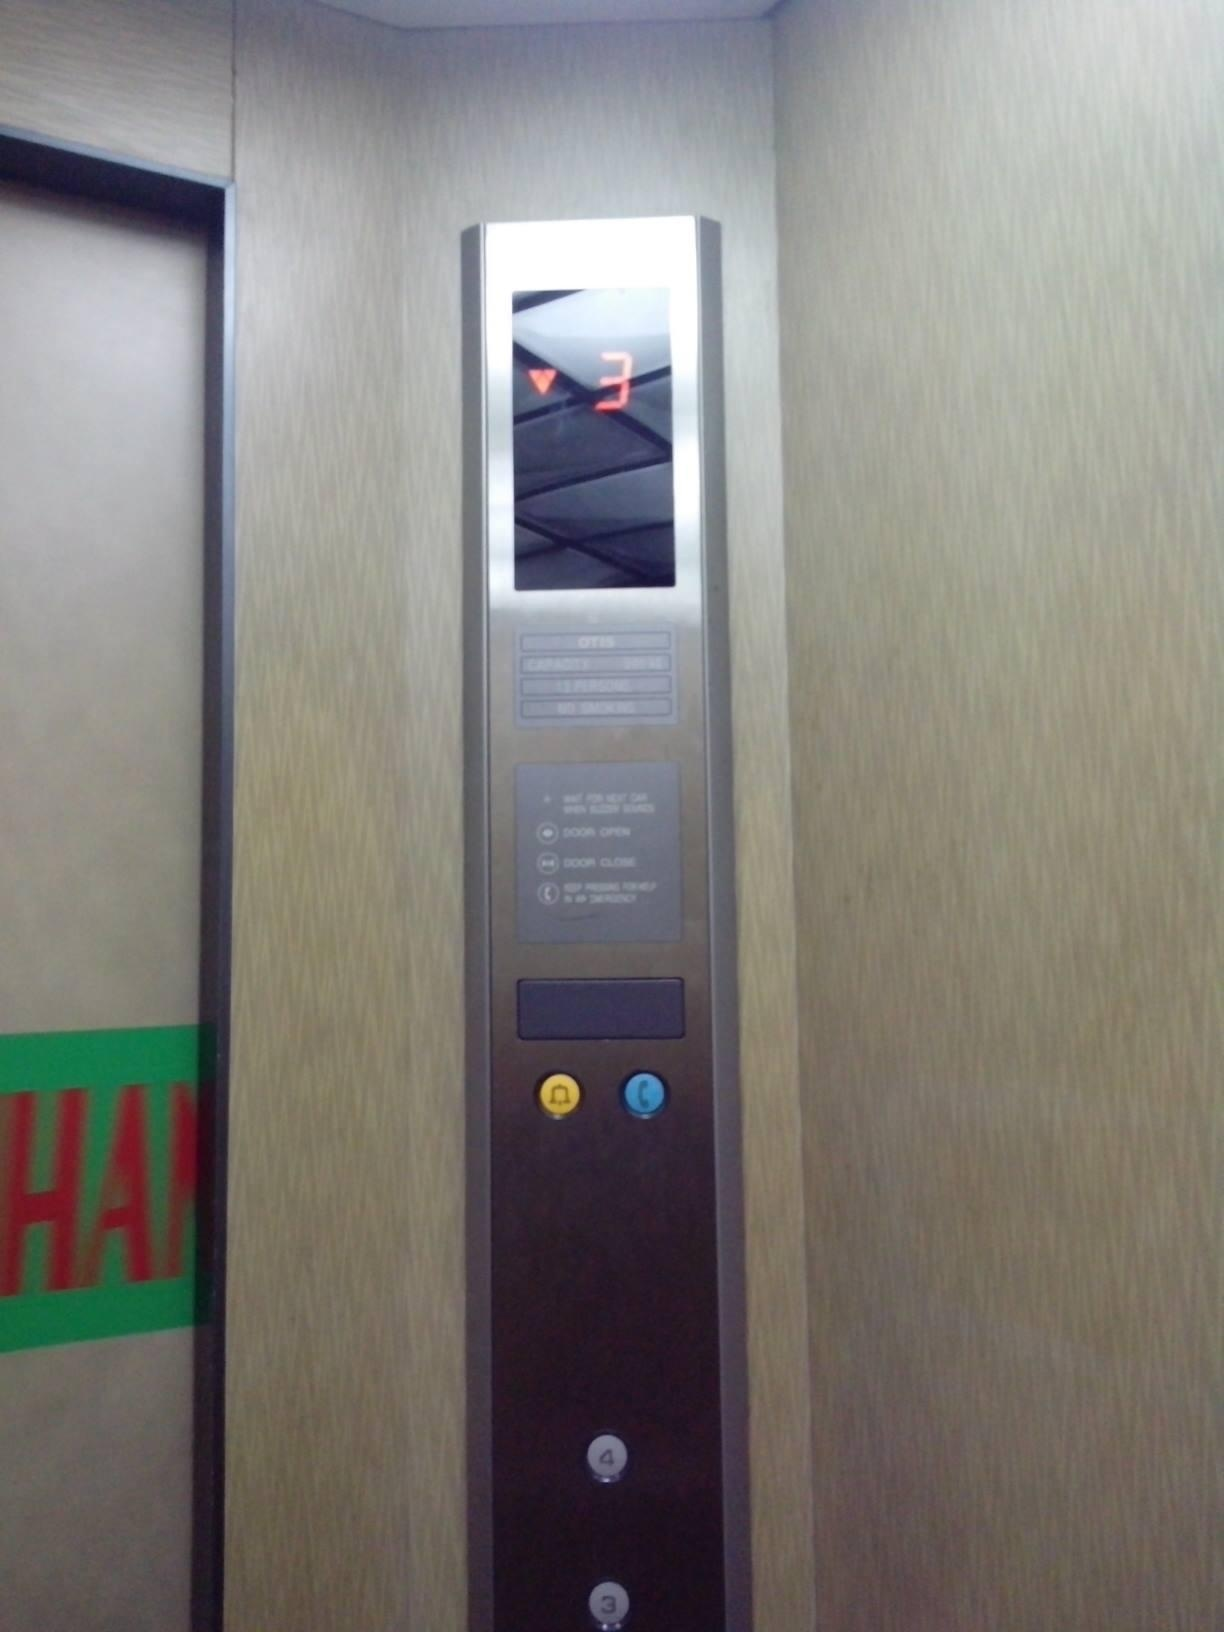3: (579, 1577, 634, 1632)
4: (579, 1429, 634, 1484)
alarm: (531, 1070, 588, 1119)
call: (613, 1069, 669, 1118)
led: (504, 280, 680, 595)
